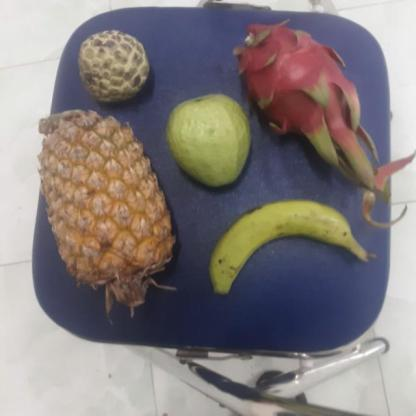annona: (78, 31, 153, 101)
banana: (213, 200, 372, 288)
guava: (166, 95, 256, 187)
pineapple: (44, 112, 176, 292)
pitaya: (238, 23, 358, 143)
